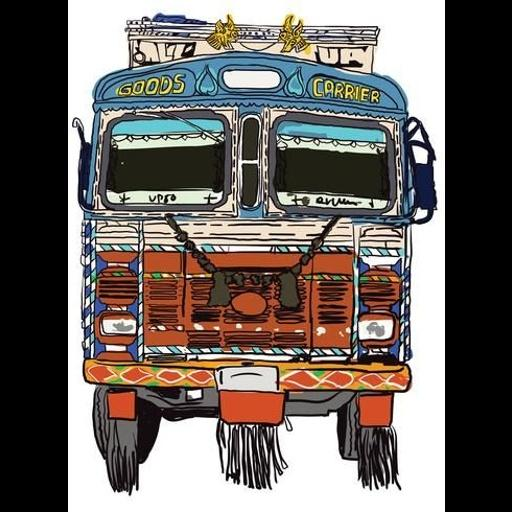truck: (74, 13, 437, 490)
